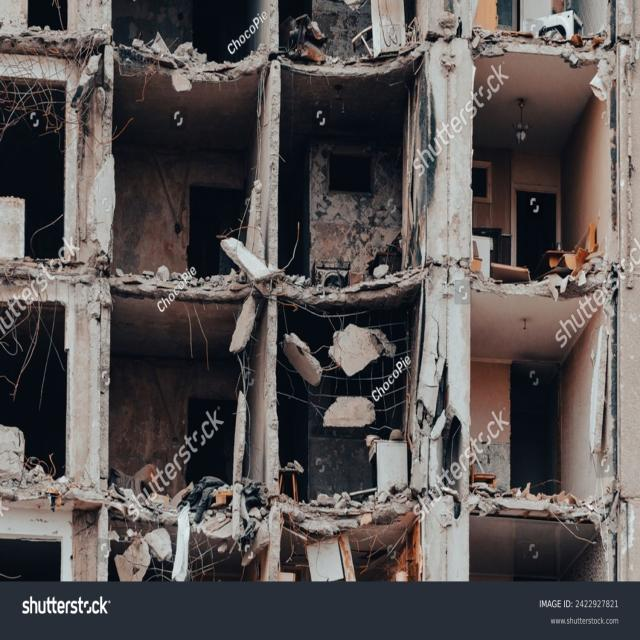Destroyed_building: (1, 3, 640, 583)
